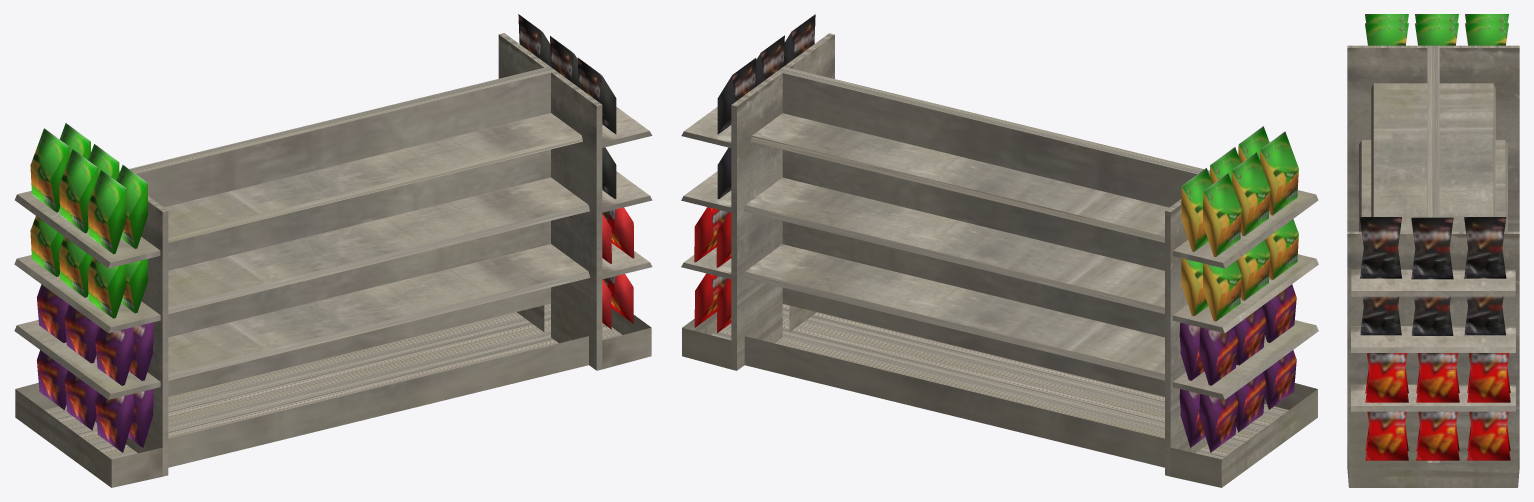
The model's file is model-empty-1.gltf.
The picture shows the model from 3 angles, left to right: view 1: azimuth 30°, elevation 25°; view 2: azimuth 150°, elevation 25°; view 3: azimuth 270°, elevation 25°; orthographic projection. The views are drawn at different scales.
Parts seen in each view (by area): view 1: Material_008-material.017, Material_028-material.067, Material_028-material.071, Material_028-material.069, Material_027-material.055, Material_028-material.061, Material_027-material.061, Material_028-material.066, Material_027-material, Material_028-material.065, Material_028-material.063, Material_027-material.057 (+10 smaller); view 2: Material_008-material.017, Material_028-material.071, Material_028-material.069, Material_028-material.067, Material_028-material.065, Material_027-material.059, Material_027-material.065, Material_028-material.070, Material_027-material.040, Material_028-material.063, Material_028-material.061, Material_027-material.055 (+11 smaller); view 3: Material_008-material.017, Material_027-material.039, Material_027-material.040, Material_027-material, Material_027-material.044, Material_027-material.046, Material_027-material.048, Material_027-material.050, Material_027-material.054, Material_027-material.052, Material_027-material.041, Material_027-material.043 (+7 smaller).
Part boxes in pixels (<box>): Material_008-material.017: <box>14,33,652,487</box>; Material_028-material.067: <box>87,170,126,254</box>; Material_028-material.071: <box>30,128,69,212</box>; Material_028-material.069: <box>59,149,97,233</box>; Material_027-material.055: <box>95,327,134,385</box>; Material_028-material.061: <box>87,258,126,318</box>; Material_027-material.061: <box>95,393,134,452</box>; Material_028-material.066: <box>117,165,148,248</box>; Material_027-material: <box>577,57,616,134</box>; Material_028-material.065: <box>30,216,64,276</box>; Material_028-material.063: <box>59,237,92,297</box>; Material_027-material.057: <box>64,304,99,363</box>; Material_008-material.017: <box>681,33,1318,487</box>; Material_028-material.071: <box>1203,173,1241,257</box>; Material_028-material.069: <box>1231,152,1270,236</box>; Material_028-material.067: <box>1260,131,1298,215</box>; Material_028-material.065: <box>1203,260,1241,321</box>; Material_027-material.059: <box>1199,327,1238,385</box>; Material_027-material.065: <box>1199,393,1238,452</box>; Material_028-material.070: <box>1181,168,1212,251</box>; Material_027-material.040: <box>717,58,756,134</box>; Material_028-material.063: <box>1236,240,1270,300</box>; Material_028-material.061: <box>1265,219,1298,279</box>; Material_027-material.055: <box>1261,284,1296,342</box>; Material_008-material.017: <box>1347,45,1519,487</box>; Material_027-material.039: <box>1411,217,1453,279</box>; Material_027-material.040: <box>1464,217,1506,278</box>; Material_027-material: <box>1360,217,1401,278</box>; Material_027-material.044: <box>1365,353,1408,402</box>; Material_027-material.046: <box>1416,353,1459,402</box>; Material_027-material.048: <box>1467,353,1510,402</box>; Material_027-material.050: <box>1365,411,1408,460</box>; Material_027-material.054: <box>1467,411,1510,460</box>; Material_027-material.052: <box>1416,411,1459,460</box>; Material_027-material.041: <box>1360,296,1401,335</box>; Material_027-material.043: <box>1464,296,1505,335</box>.
Size of the model in its own units: 16.78 by 8.48 by 5.24.
3 materials, 3 textured.
